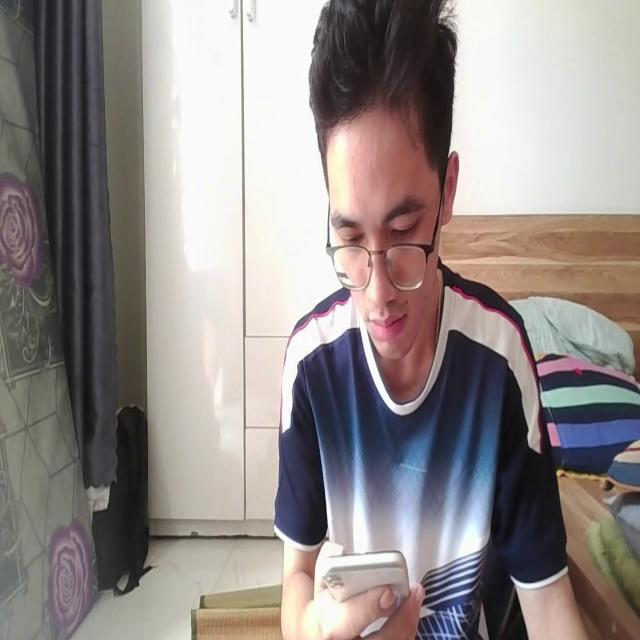phone: (316, 544, 421, 618)
student: (279, 2, 599, 640)
